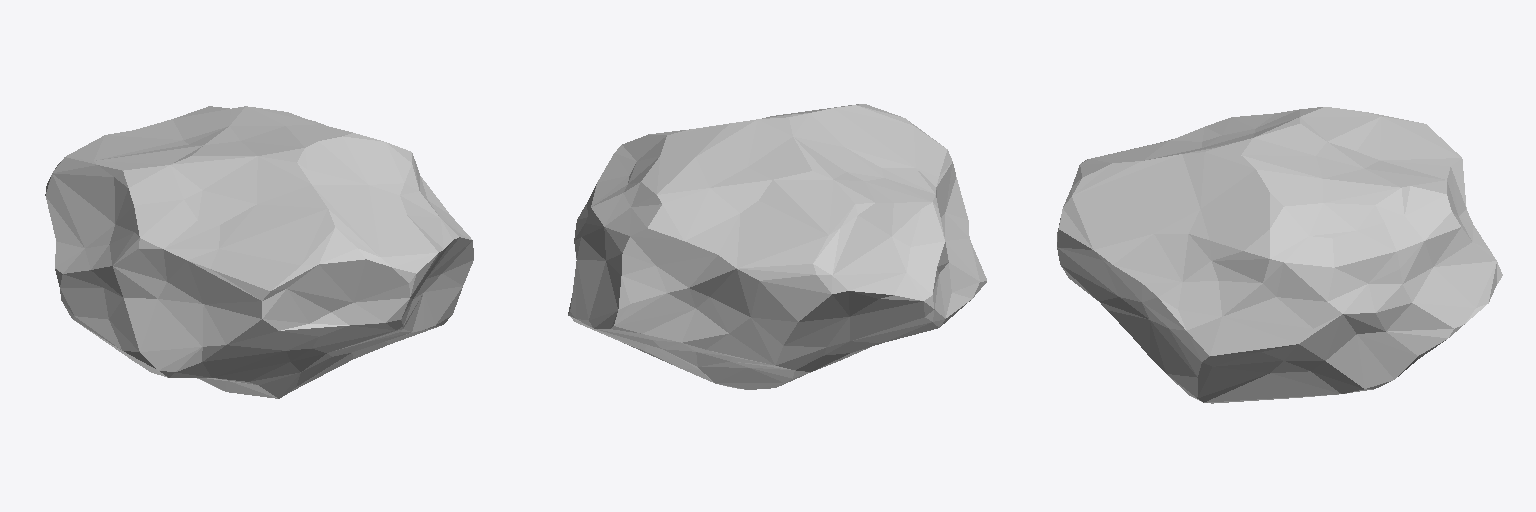
The model's file is rock18.obj.
3 views of the same model, side by side, from view 1: azimuth 30°, elevation 25°; view 2: azimuth 150°, elevation 25°; view 3: azimuth 270°, elevation 25° (orthographic).
Visible parts, largest first — view 1: rock18; view 2: rock18; view 3: rock18.
Part boxes in pixels (bbox=[...]): rock18: bbox=[45, 106, 473, 398]; rock18: bbox=[568, 104, 986, 389]; rock18: bbox=[1057, 107, 1502, 403].
Bounding box in the file's own units: 3.25 × 1.98 × 3.47.